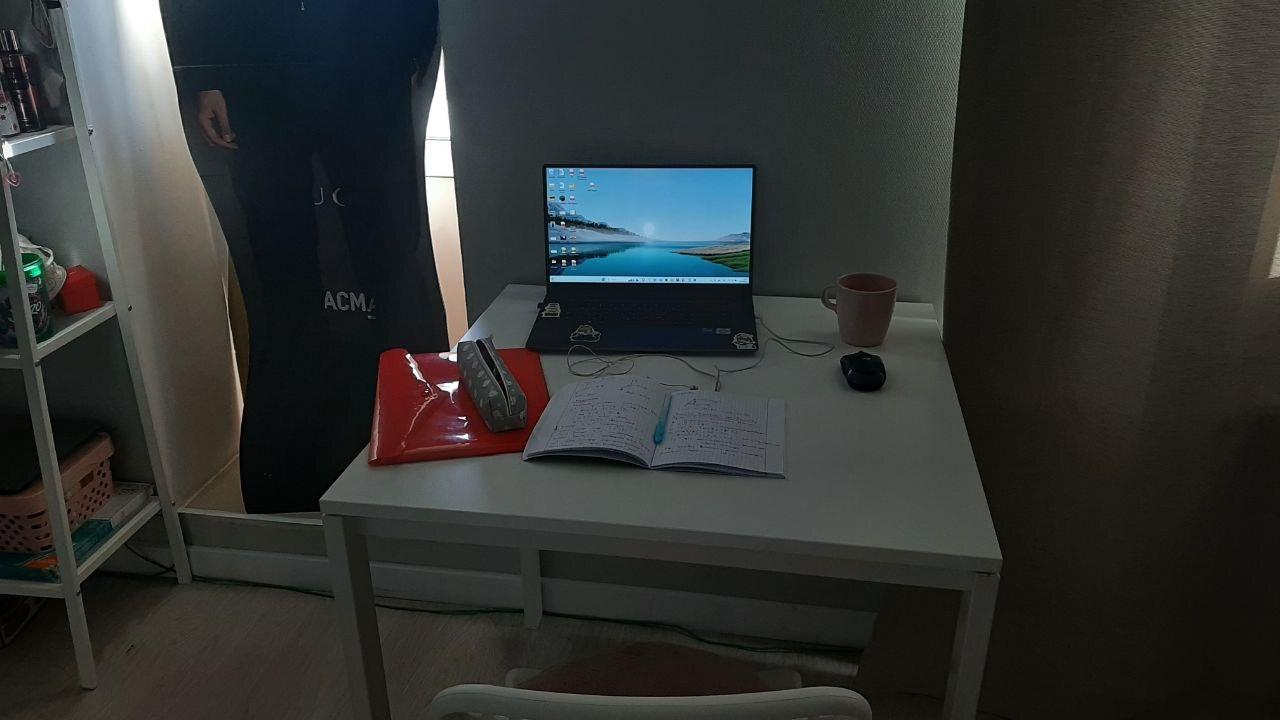monitor: (541, 163, 758, 299)
